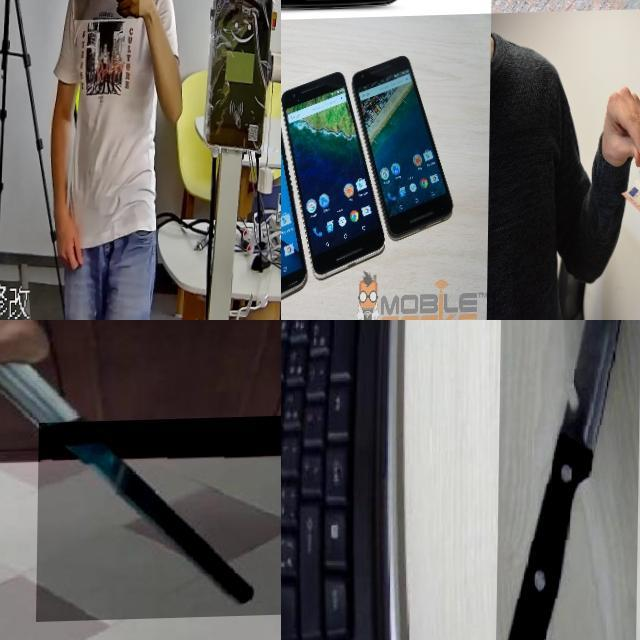-: (37, 418, 281, 623), (496, 320, 640, 640)
gun-knife-thesis - v11 Yolov5 augmented: (75, 0, 141, 39)
